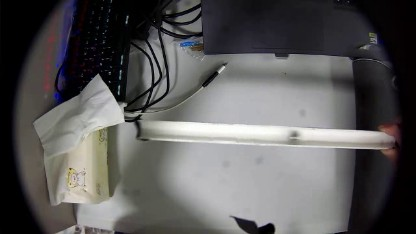gangzhu: (287, 131, 299, 141)
